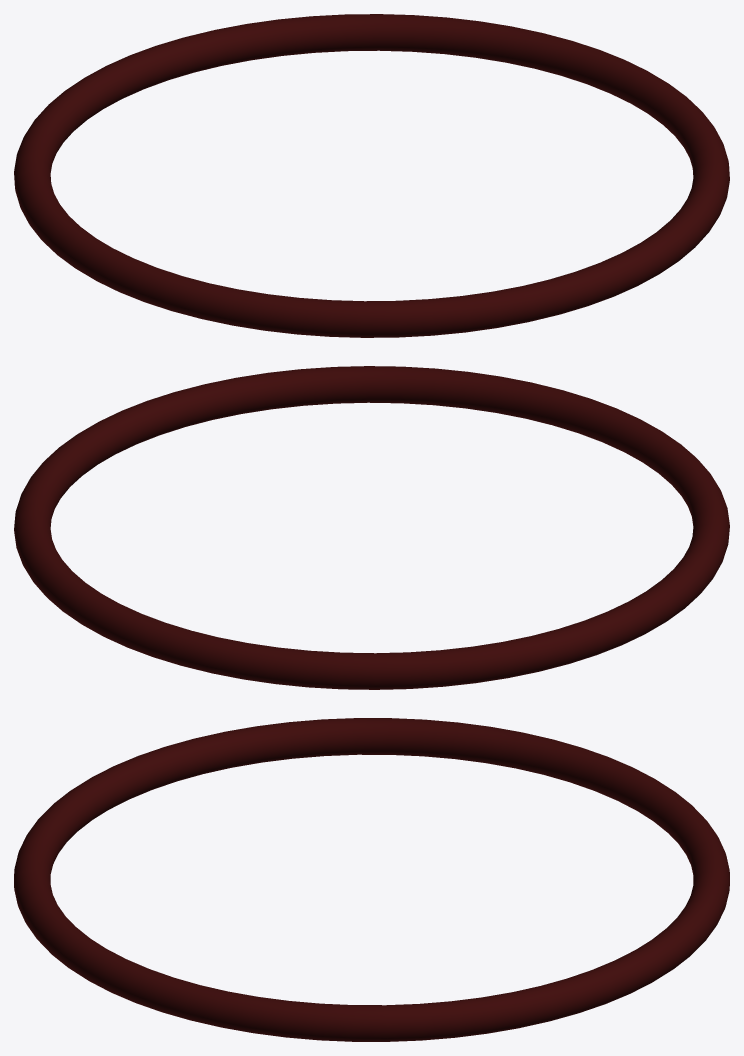
3 renders of one model, top to bottom at view 1: azimuth 30°, elevation 25°; view 2: azimuth 150°, elevation 25°; view 3: azimuth 270°, elevation 25°, orthographic.
Parts seen in each view (by area): view 1: Torus; view 2: Torus; view 3: Torus.
Boxes of the visible parts, box(x1,y1,x2,y2) form: Torus: box(14, 14, 729, 337); Torus: box(14, 366, 729, 689); Torus: box(14, 718, 729, 1041).
Bounding box in the file's own units: 54.47 × 54.47 × 2.8.
